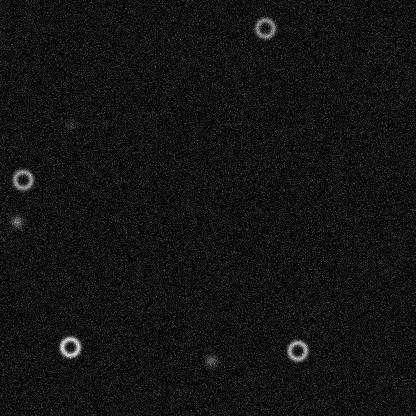Ring: (10, 167, 34, 191), (57, 334, 81, 358), (285, 338, 309, 362), (253, 15, 277, 39)
Spot: (202, 352, 218, 368), (62, 116, 78, 132), (8, 213, 24, 229)
